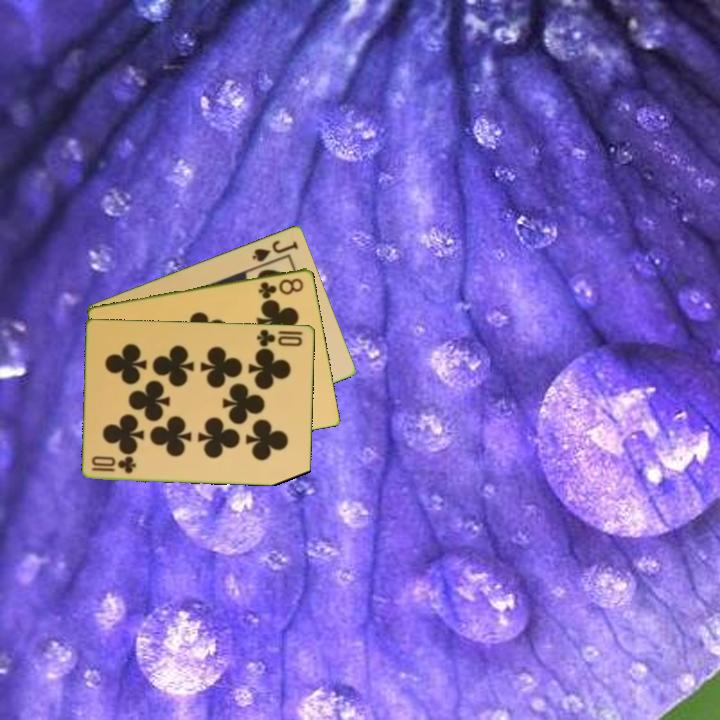10c: (254, 326, 305, 349), (88, 454, 139, 476)
8c: (255, 274, 307, 301)
Js: (249, 236, 301, 264)
